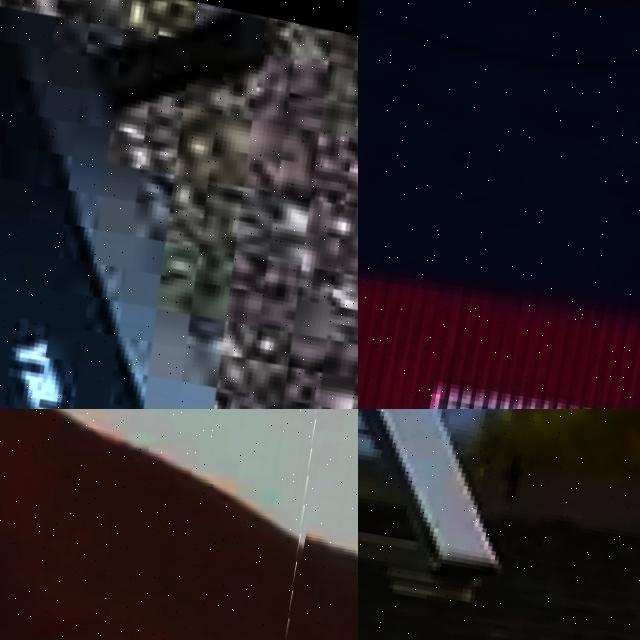0: (0, 0, 358, 409)
drone: (0, 409, 348, 640)
